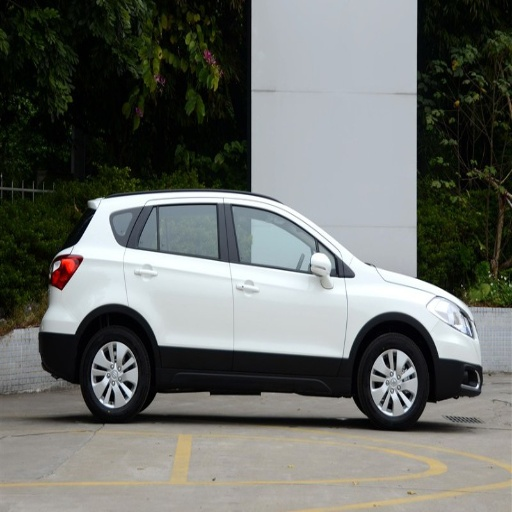back_right_door: (125, 197, 232, 373)
front_right_door: (228, 198, 347, 383)
